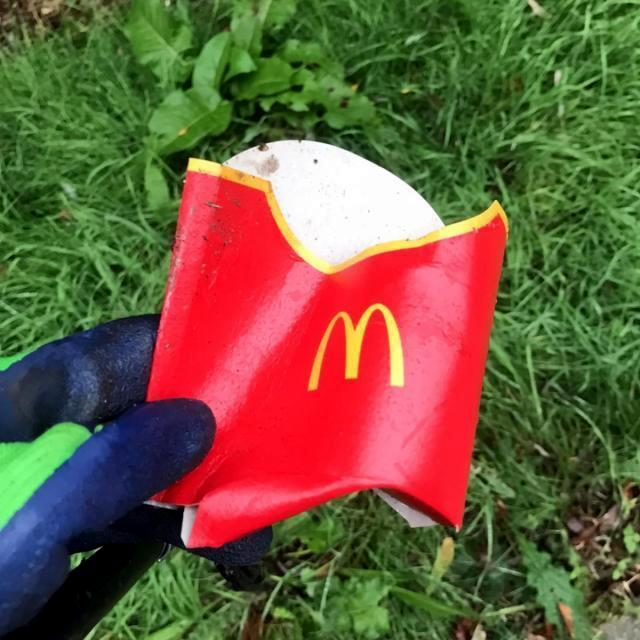Paper: (137, 135, 511, 551)
